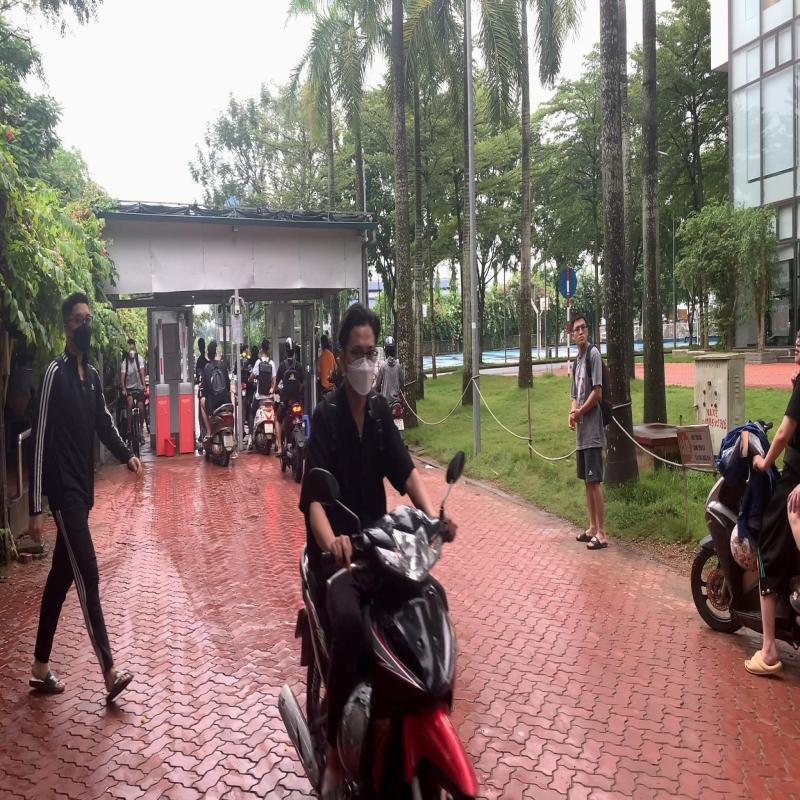nohelmet: (206, 340, 218, 360), (260, 337, 270, 357)
